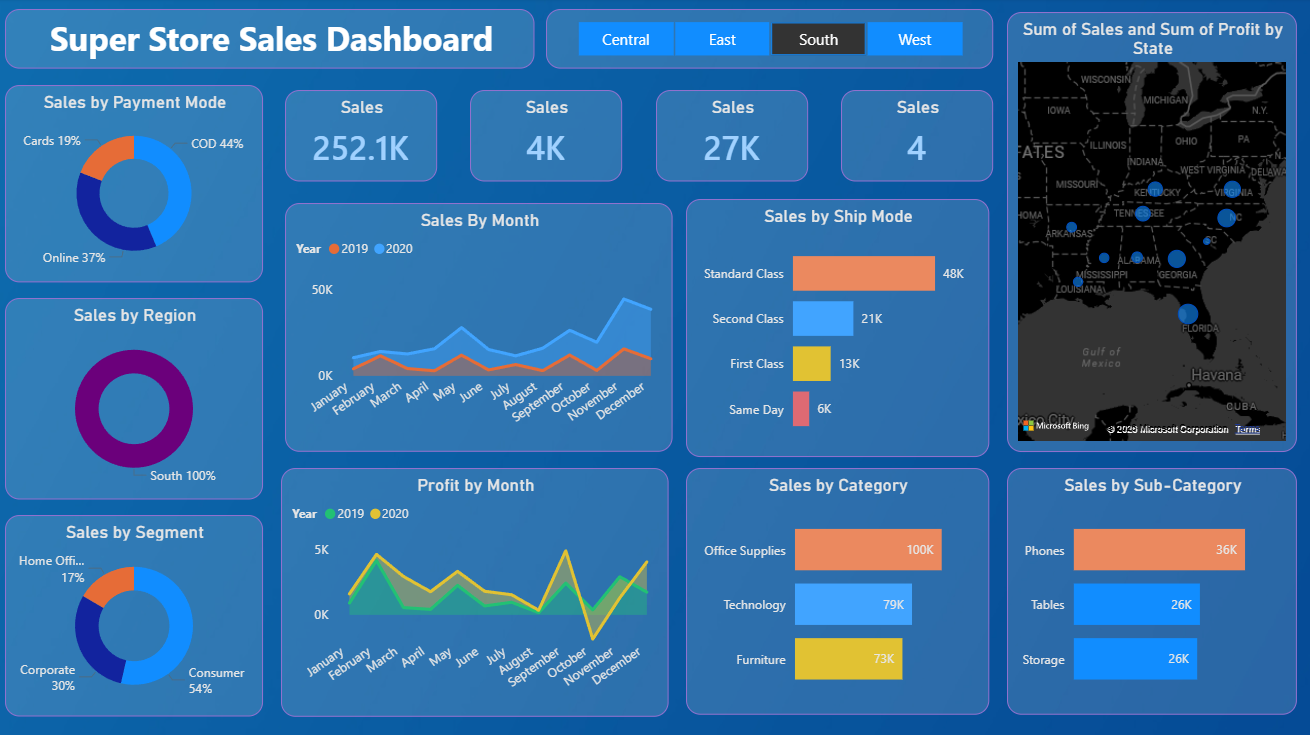

The dashboard page shown, as its layout file describes it:
{"tool":"powerbi","page":{"name":"Dashboard","canvas":[1280,720],"ordinal":0},"visuals":[{"type":"clusteredBarChart","title":"Sales by Category","fields":{"Category":["SuperStore_Sales_Dataset.Category"],"Y":["Sum(SuperStore_Sales_Dataset.Sales)"]},"box":[670.5,457.1,294.7,240.2],"z":0},{"type":"clusteredBarChart","title":"Sales by Sub-Category","fields":{"Category":["SuperStore_Sales_Dataset.Sub-Category"],"Y":["Sum(SuperStore_Sales_Dataset.Sales)"]},"box":[982.4,457.1,282.1,240.2],"z":1000},{"type":"clusteredBarChart","title":"Sales by Ship Mode","fields":{"Y":["Sum(SuperStore_Sales_Dataset.Sales)"],"Category":["SuperStore_Sales_Dataset.Ship Mode"]},"box":[670.2,195.5,294.7,250.9],"z":2000},{"type":"stackedAreaChart","title":"Sales By Month","fields":{"Y":["Sum(SuperStore_Sales_Dataset.Sales)"],"Category":["SuperStore_Sales_Dataset.Order Date.Variation.Date Hierarchy.Month","SuperStore_Sales_Dataset.Order Date.Variation.Date Hierarchy.Day"],"Series":["SuperStore_Sales_Dataset.Order Date.Variation.Date Hierarchy.Year"]},"box":[280.1,199.4,377.4,242.2],"z":3000},{"type":"stackedAreaChart","title":"Profit by Month","fields":{"Category":["SuperStore_Sales_Dataset.Order Date.Variation.Date Hierarchy.Month","SuperStore_Sales_Dataset.Order Date.Variation.Date Hierarchy.Day"],"Series":["SuperStore_Sales_Dataset.Order Date.Variation.Date Hierarchy.Year"],"Y":["Sum(SuperStore_Sales_Dataset.Profit)"]},"box":[275.9,457.1,377.4,242.2],"z":4000},{"type":"map","fields":{"Category":["SuperStore_Sales_Dataset.State"],"Size":["Sum(SuperStore_Sales_Dataset.Sales)"]},"box":[982.4,13.6,282.1,428],"z":5000},{"type":"donutChart","title":"Sales by Segment","fields":{"Category":["SuperStore_Sales_Dataset.Segment"],"Y":["Sum(SuperStore_Sales_Dataset.Sales)"]},"box":[7.8,502.9,250.9,196.5],"z":6000},{"type":"donutChart","title":"Sales by Payment Mode","fields":{"Category":["SuperStore_Sales_Dataset.Payment Mode"],"Y":["Sum(SuperStore_Sales_Dataset.Sales)"]},"box":[7.8,84.6,250.9,191.6],"z":7000},{"type":"donutChart","title":"Sales by Region","fields":{"Category":["SuperStore_Sales_Dataset.Region"],"Y":["Sum(SuperStore_Sales_Dataset.Sales)"]},"box":[7.8,291.3,250.9,196.5],"z":8000},{"type":"slicer","fields":{"Values":["SuperStore_Sales_Dataset.Region"]},"box":[534,10.7,434.8,58.4],"z":9000},{"type":"textbox","box":[7.8,10.7,514.5,58.4],"z":10000},{"type":"cardVisual","title":"Sales","fields":{"Data":["Sum(SuperStore_Sales_Dataset.Sales)"]},"box":[280.1,89.5,147.8,88.5],"z":11000},{"type":"cardVisual","title":"Sales","fields":{"Data":["Sum(SuperStore_Sales_Dataset.Quantity)"]},"box":[460.4,89.5,147.8,88.5],"z":12000},{"type":"cardVisual","title":"Sales","fields":{"Data":["Sum(SuperStore_Sales_Dataset.Profit)"]},"box":[640.6,89.5,147.8,88.5],"z":13000},{"type":"cardVisual","title":"Sales","fields":{"Data":["Avg(SuperStore_Sales_Dataset.AvgDelivery)"]},"box":[820.9,89.5,147.8,88.5],"z":14000}]}

Visuals, with their boxes in screenshot pixels (x1, y1, x2, y2), scaled from the page's 1280x720 canvas onto the 1310x735 screenshot:
"Sales by Category" clusteredBarChart: {"left": 686, "top": 467, "right": 988, "bottom": 712}
"Sales by Sub-Category" clusteredBarChart: {"left": 1005, "top": 467, "right": 1294, "bottom": 712}
"Sales by Ship Mode" clusteredBarChart: {"left": 686, "top": 200, "right": 988, "bottom": 456}
"Sales By Month" stackedAreaChart: {"left": 287, "top": 204, "right": 673, "bottom": 451}
"Profit by Month" stackedAreaChart: {"left": 282, "top": 467, "right": 669, "bottom": 714}
map - SuperStore_Sales_Dataset.State x Sum(SuperStore_Sales_Dataset.Sales): {"left": 1005, "top": 14, "right": 1294, "bottom": 451}
"Sales by Segment" donutChart: {"left": 8, "top": 513, "right": 265, "bottom": 714}
"Sales by Payment Mode" donutChart: {"left": 8, "top": 86, "right": 265, "bottom": 282}
"Sales by Region" donutChart: {"left": 8, "top": 297, "right": 265, "bottom": 498}
slicer - SuperStore_Sales_Dataset.Region: {"left": 547, "top": 11, "right": 992, "bottom": 71}
textbox: {"left": 8, "top": 11, "right": 535, "bottom": 71}
"Sales" cardVisual: {"left": 287, "top": 91, "right": 438, "bottom": 182}
"Sales" cardVisual: {"left": 471, "top": 91, "right": 622, "bottom": 182}
"Sales" cardVisual: {"left": 656, "top": 91, "right": 807, "bottom": 182}
"Sales" cardVisual: {"left": 840, "top": 91, "right": 991, "bottom": 182}
